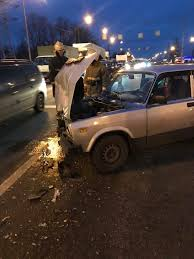car: (41, 42, 192, 165)
